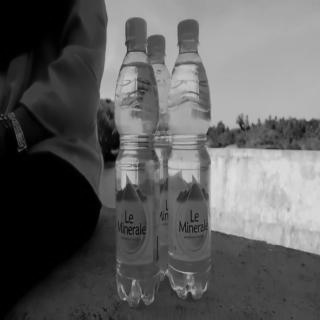plastic_bottles: (113, 17, 160, 304), (166, 16, 212, 308)
